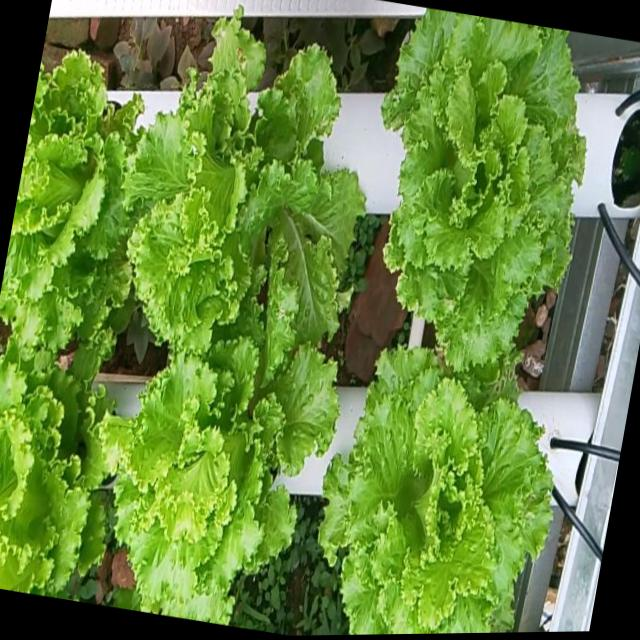Mature: (117, 5, 358, 333), (374, 7, 576, 372), (101, 302, 329, 621), (309, 338, 541, 635), (0, 33, 134, 335), (0, 324, 95, 595)
